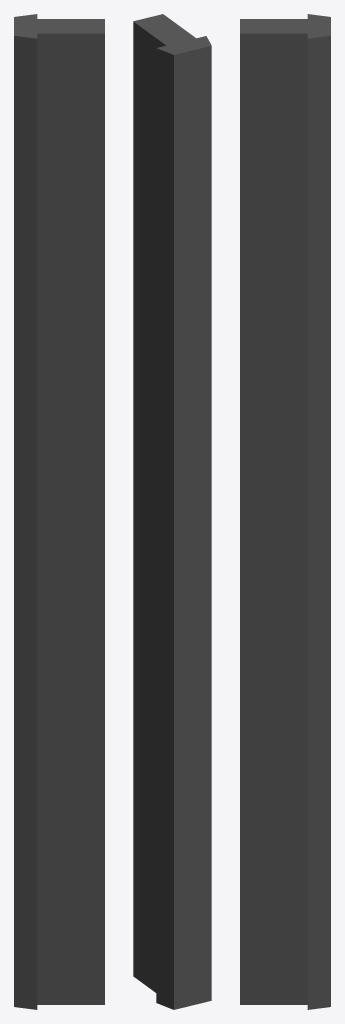
File: SM_beam_simple.fbx
3 views of the same model, side by side, from view 1: azimuth 90°, elevation 25°; view 2: azimuth 210°, elevation 25°; view 3: azimuth 270°, elevation 25° (orthographic).
Parts seen in each view (by area): view 1: SM_beam_simple; view 2: SM_beam_simple; view 3: SM_beam_simple.
Part boxes in pixels (x1,y1,x2,y2): SM_beam_simple: [14, 14, 104, 1009]; SM_beam_simple: [133, 14, 211, 1009]; SM_beam_simple: [240, 14, 330, 1009].
Size of the model in its own units: 16.42 by 300 by 25.47.
1 material, 1 textured.
